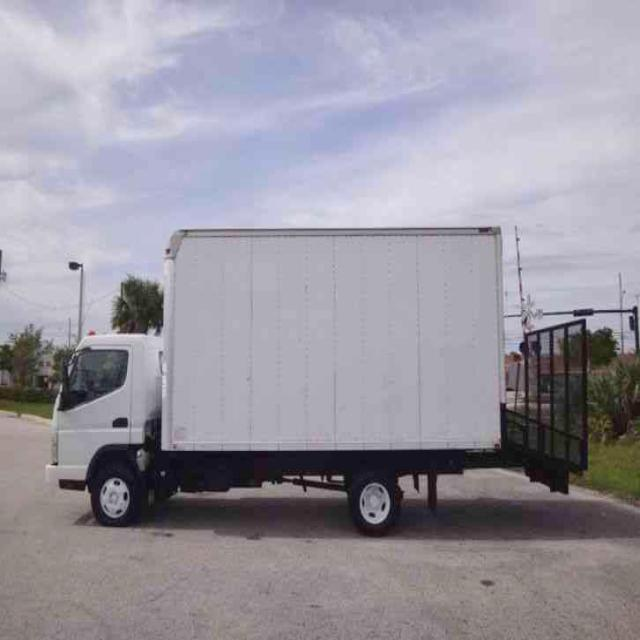truck: (44, 216, 592, 519)
